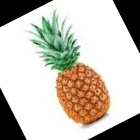Pineapple: (28, 12, 110, 125)
